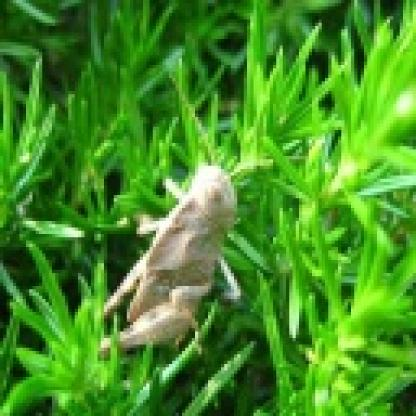grasshopper: (96, 156, 240, 370)
